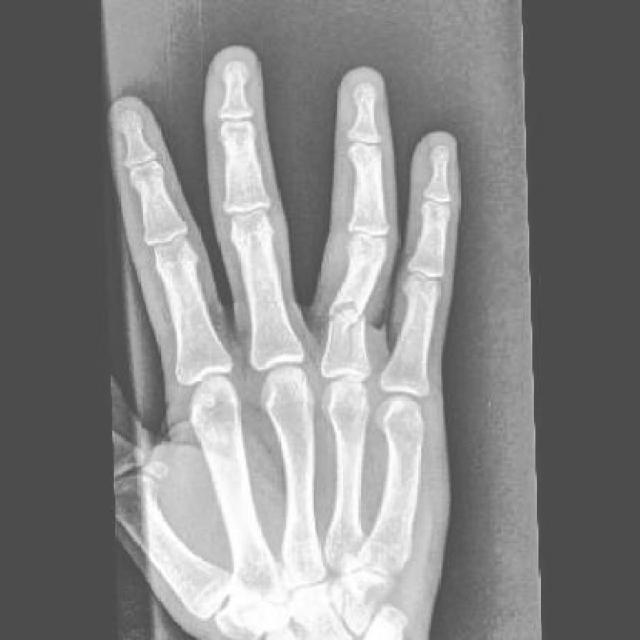Fracture: (326, 296, 366, 350)
